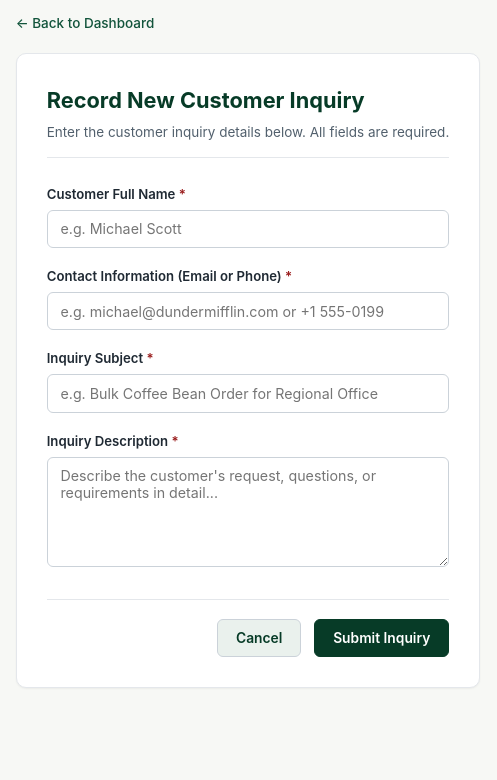
Customer Inquiry Management - Frontend Automated Test Suite › TEST 1 — Form Validation: displays field-level errors and prevents submission when required fields are missing
The image size is (497, 780).
Expected: the heading "Record New Customer Inquiry" is shown, [47,87,365,113]
Click submit without entering any data
Click the button "Submit Inquiry".
click(382, 638)  # box [314,619,449,657]
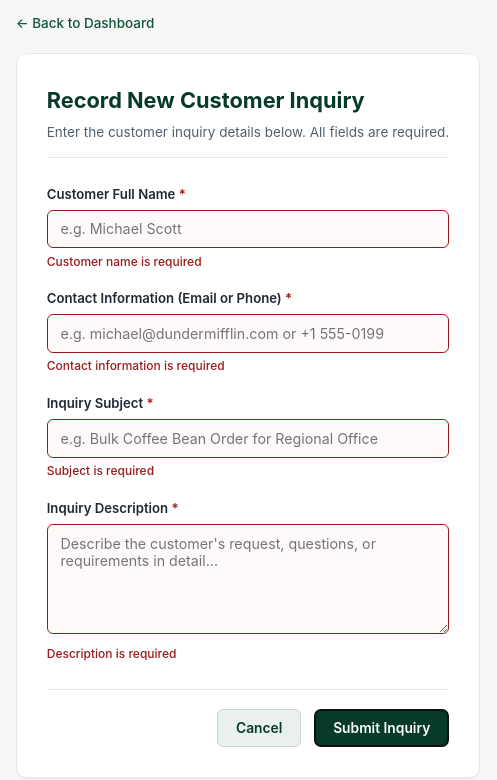
Expected: the text "Customer name is required" is shown, [47,254,202,269]
Expected: the text "Contact information is required" is shown, [47,358,225,374]
Expected: the text "Subject is required" is shown, [47,463,154,478]
